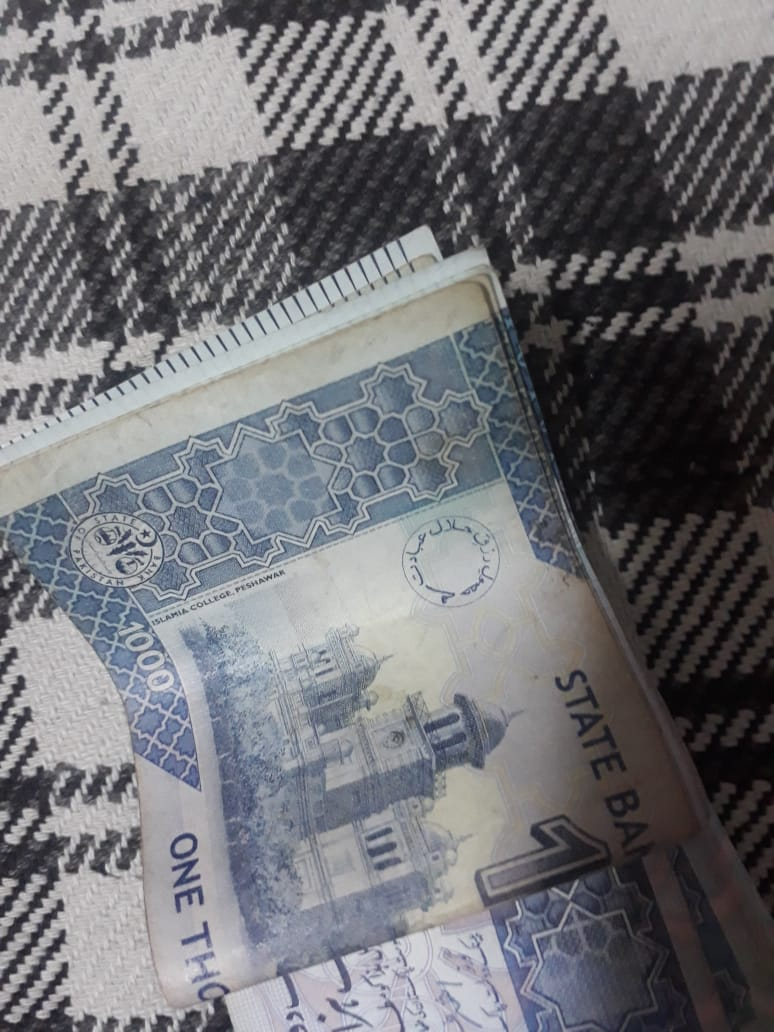1000 rupee: (31, 277, 725, 1021)
